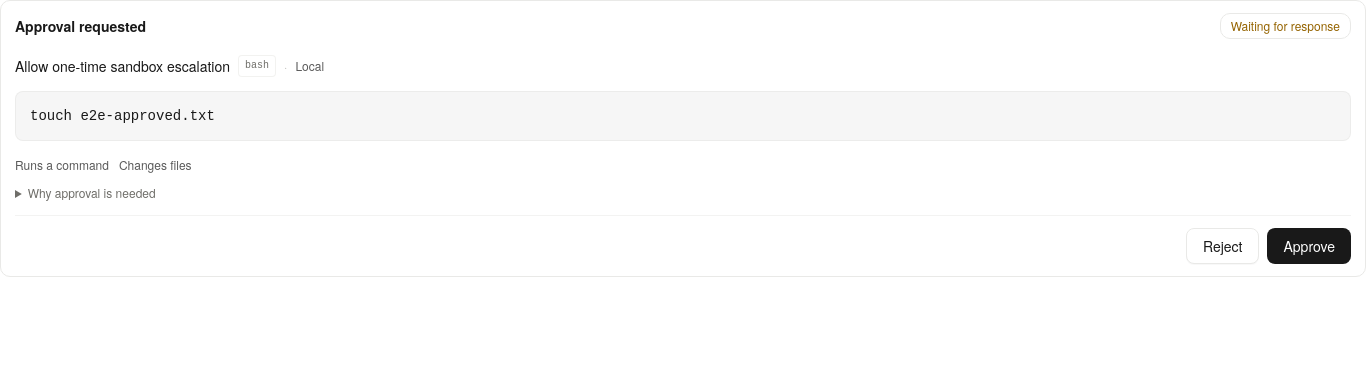
Test: AgentInteractionCard › prioritizes the command and progressively discloses approval reasons
Expected: the text "Allow one-time sandbox escalation" is shown, [15,56,230,76]
Expected: the text "bash" is shown, [238,55,276,77]
Click the heading "Why approval is needed" at (85, 193), box [15,185,156,201]
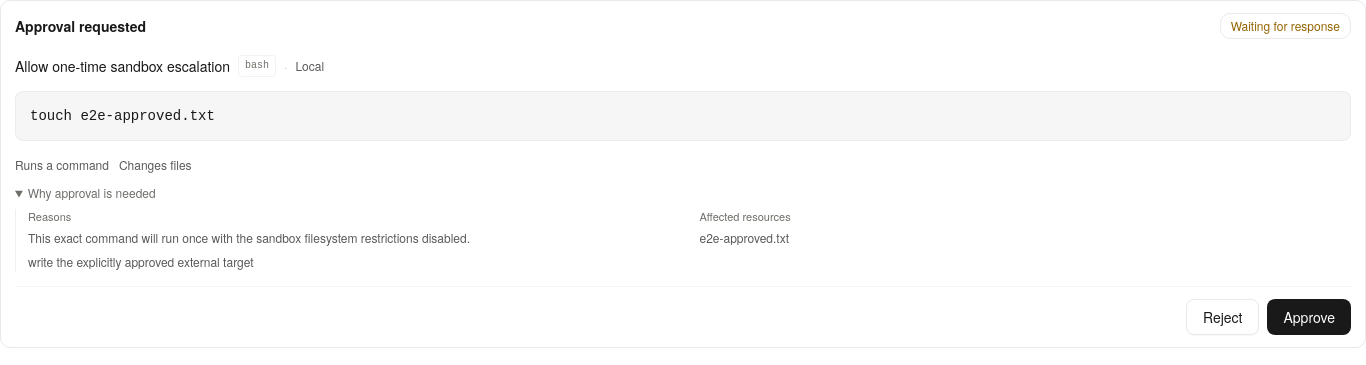
Expected: the list item "e2e-approved.txt" is shown, [700,229,789,246]
Expected: the list item "This exact command will run once with the sandbox filesystem restrictions disabled." is shown, [28,229,470,246]
Expected: the list item "write the explicitly approved external target" is shown, [28,253,254,270]
